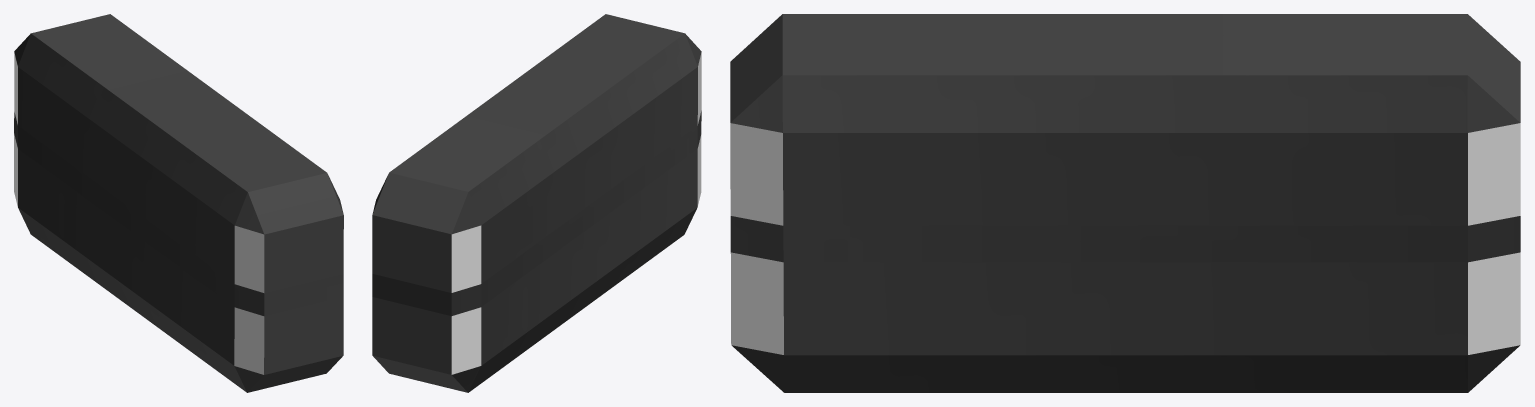
The model's file is LargeMag_mesh.fbx.
3 renders of one model, left to right at view 1: azimuth 30°, elevation 25°; view 2: azimuth 150°, elevation 25°; view 3: azimuth 270°, elevation 25°, orthographic. The views are drawn at different scales.
Visible parts, largest first — view 1: LargeMag_mesh; view 2: LargeMag_mesh; view 3: LargeMag_mesh.
Part boxes in pixels (x1=…): LargeMag_mesh: x1=14, y1=14, x2=343, y2=392; LargeMag_mesh: x1=372, y1=14, x2=701, y2=392; LargeMag_mesh: x1=730, y1=14, x2=1520, y2=392.
Size of the model in its own units: 2.75 by 5.02 by 11.32.
